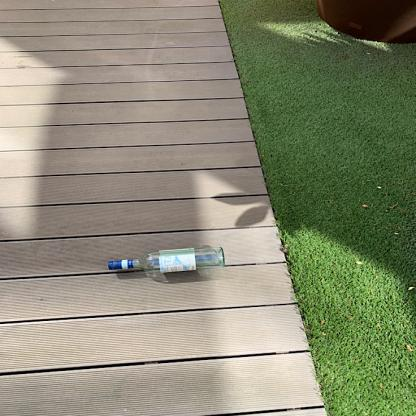trash: (103, 246, 230, 280)
